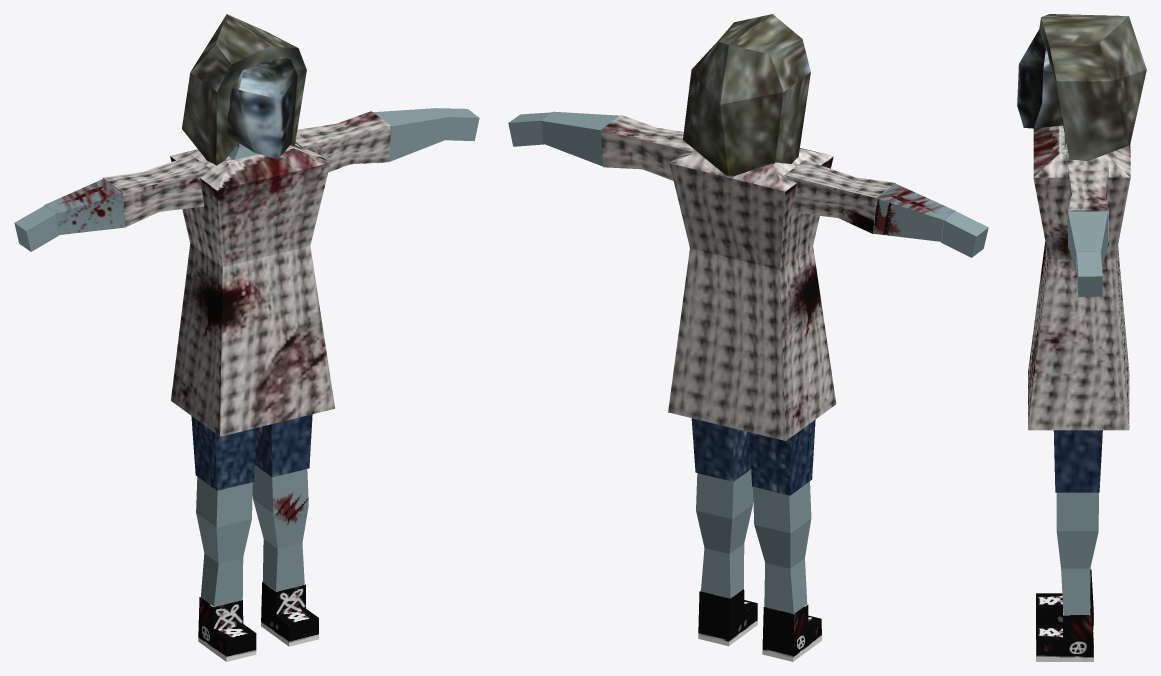
File: Nina.fbx
3 renders of one model, left to right at view 1: azimuth 30°, elevation 25°; view 2: azimuth 150°, elevation 25°; view 3: azimuth 270°, elevation 25°, orthographic. The views are drawn at different scales.
Parts seen in each view (by area): view 1: Cuerpo, Cabello, Cabeza, Pierna Inferior Der, Pierna Inferior Izq, Brazo Superior Der, Brazo Superior Izq, Pierna Superior Der, Brazo Inferior Der, Pierna Superior Izq, Pie Der, Pie Izq (+3 smaller); view 2: Cuerpo, Cabello, Pierna Inferior Der, Pierna Inferior Izq, Brazo Superior Der, Brazo Superior Izq, Pierna Superior Der, Brazo Inferior Der, Pierna Superior Izq, Brazo Inferior Izq, Pie Der, Pie Izq (+2 smaller); view 3: Cuerpo, Cabello, Pierna Inferior Izq, Cabeza, Pierna Superior Izq, Pie Izq, Brazo Superior Izq, Brazo Inferior Izq, Mano Izq, Pie Der.
Boxes of the visible parts, box(x1,y1,x2,y2) form: Cuerpo: box(170, 143, 334, 436); Cabello: box(182, 14, 306, 165); Cabeza: box(227, 58, 297, 159); Pierna Inferior Der: box(196, 477, 252, 606); Pierna Inferior Izq: box(252, 465, 308, 591); Brazo Superior Der: box(103, 155, 211, 227); Brazo Superior Izq: box(295, 111, 390, 172); Pierna Superior Der: box(191, 416, 255, 490); Brazo Inferior Der: box(44, 179, 125, 234); Pierna Superior Izq: box(255, 414, 312, 477); Pie Der: box(198, 597, 256, 661); Pie Izq: box(261, 582, 318, 646); Cuerpo: box(668, 148, 836, 440); Cabello: box(683, 14, 810, 176); Pierna Inferior Der: box(753, 481, 811, 613); Pierna Inferior Izq: box(696, 469, 753, 598); Brazo Superior Der: box(784, 160, 895, 233); Brazo Superior Izq: box(601, 115, 694, 180); Pierna Superior Der: box(749, 419, 815, 495); Brazo Inferior Der: box(874, 184, 955, 241); Pierna Superior Izq: box(691, 418, 751, 481); Brazo Inferior Izq: box(541, 111, 619, 166); Pie Der: box(762, 604, 821, 661); Pie Izq: box(698, 589, 757, 646); Cuerpo: box(1028, 125, 1130, 430); Cabello: box(1039, 14, 1146, 160); Pierna Inferior Izq: box(1056, 492, 1098, 614); Cabeza: box(1017, 29, 1063, 128); Pierna Superior Izq: box(1053, 430, 1102, 492); Pie Izq: box(1036, 600, 1093, 661); Brazo Superior Izq: box(1068, 165, 1108, 246); Brazo Inferior Izq: box(1068, 211, 1107, 272); Mano Izq: box(1076, 251, 1102, 296); Pie Der: box(1036, 568, 1093, 630).
Size of the model in its own units: 114 by 145 by 27.3.
